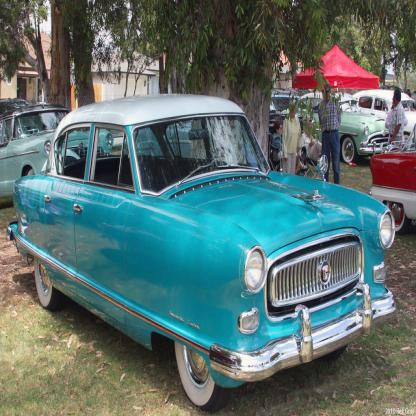Car: (0, 96, 416, 410)
